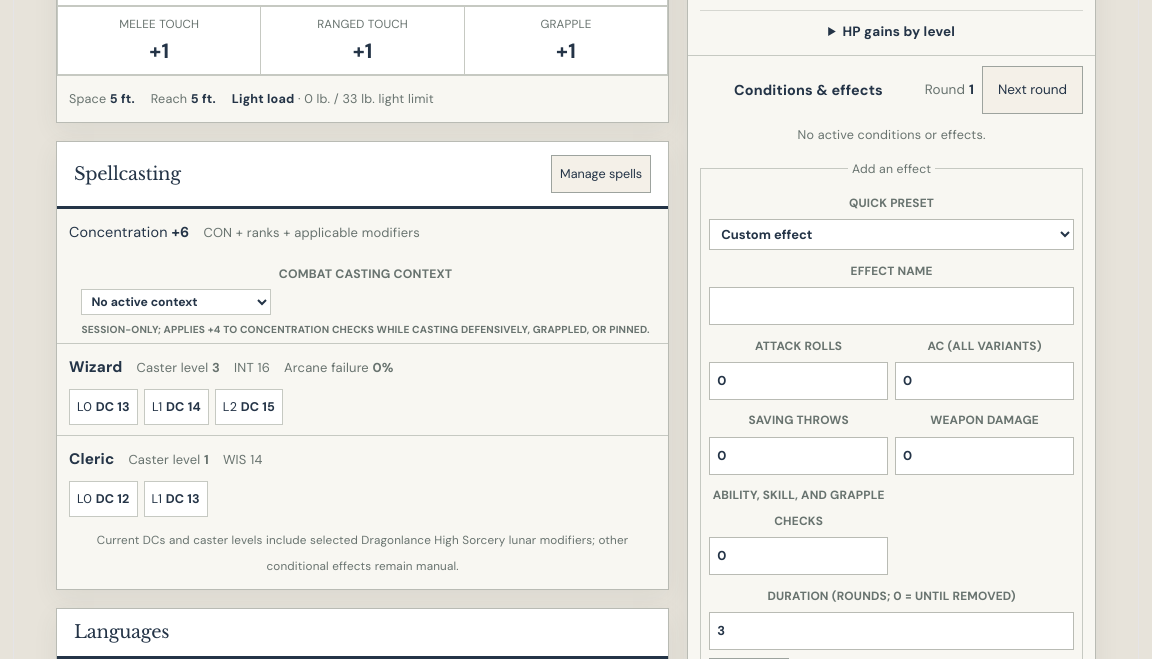
Test: casting summary › shares the session-only Combat Casting context across the skill, summary, and spell sheet
(page scrolled)
Select "Pinned" in the dropdown labelled "Combat Casting context" at (176, 302), box 81,289 -> 271,315
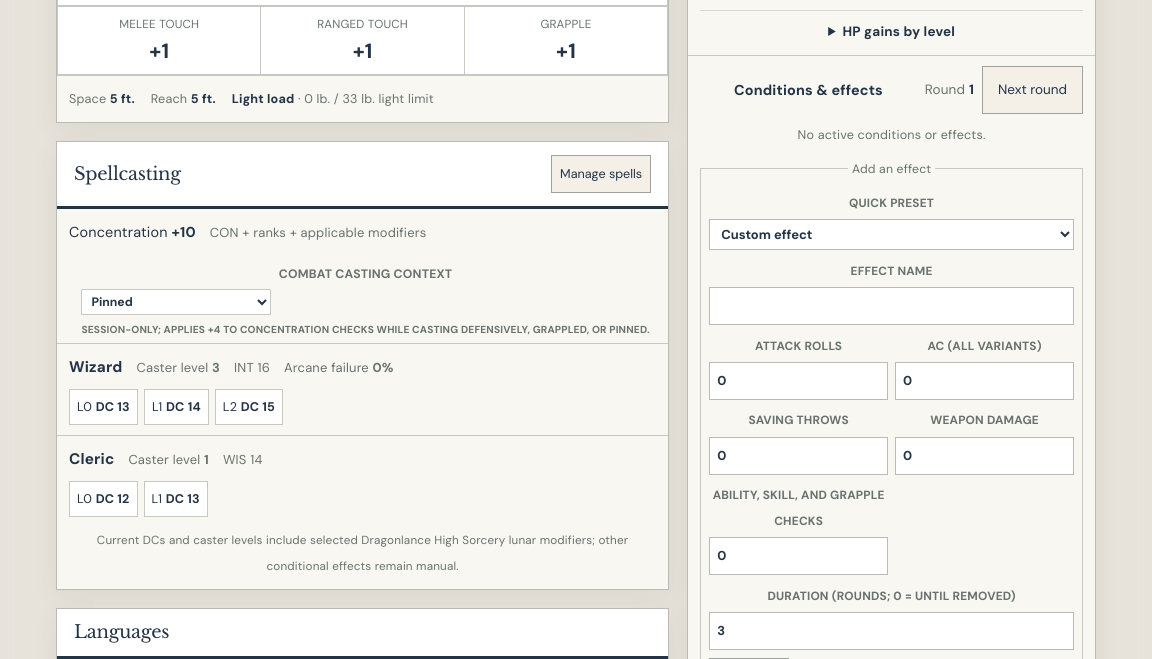
Now the text "+10" is shown, box 172,223 -> 196,241
Click the button "Manage spells" at (601, 174), box 551,155 -> 651,193
(page scrolled)
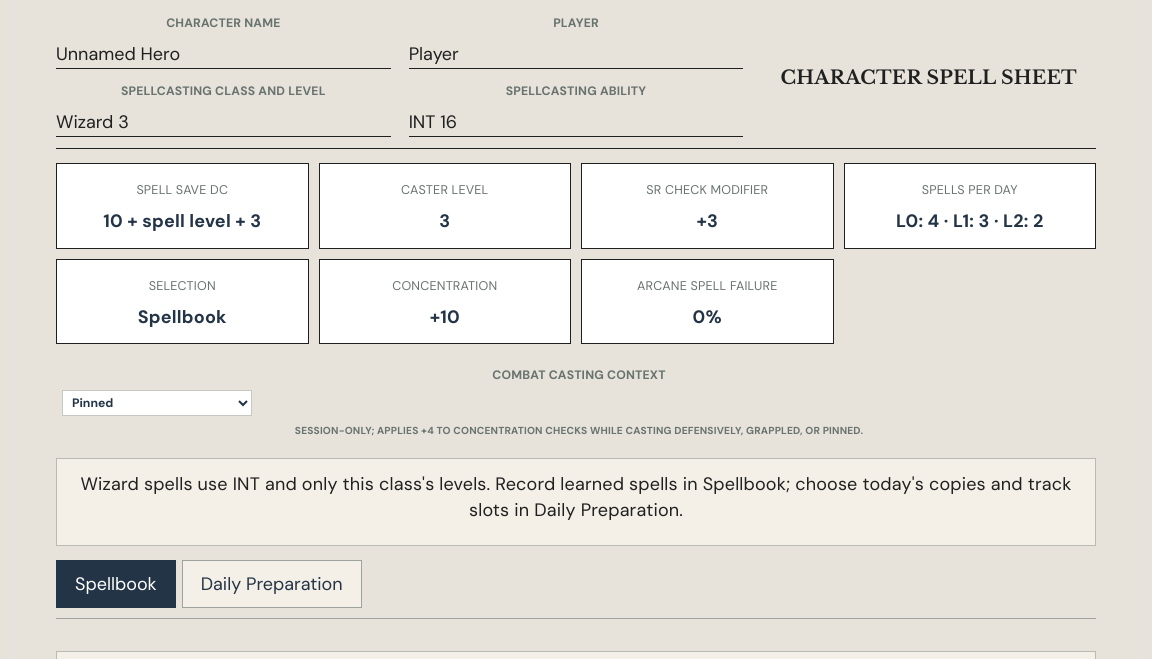
Now the dropdown labelled "Combat Casting context" shows "Pinned", box 62,390 -> 252,416
